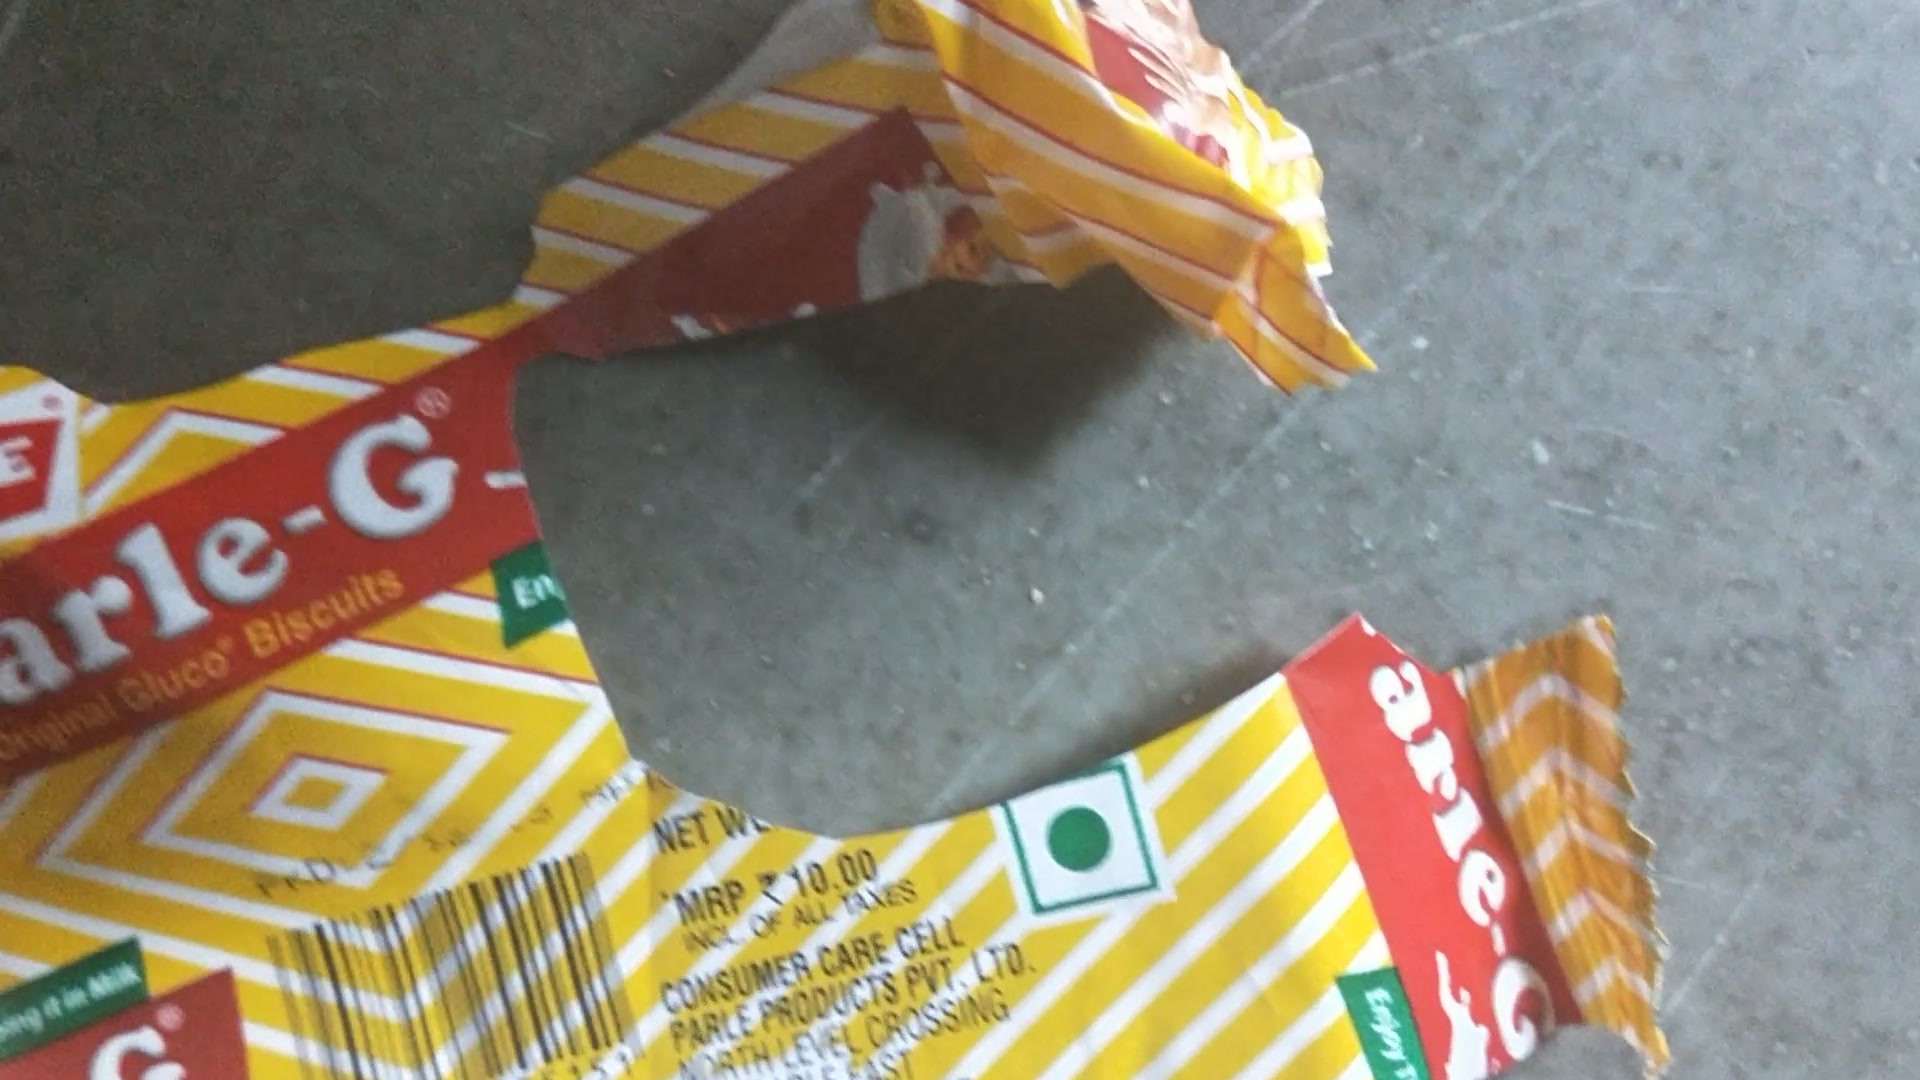parle-g-b: (1, 400, 1575, 1076)
